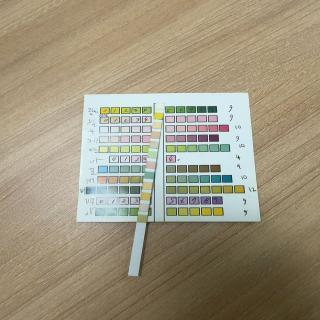mark: (144, 171, 154, 179), (146, 160, 156, 168), (141, 192, 150, 200), (140, 204, 148, 212), (149, 151, 157, 159), (150, 142, 158, 150), (152, 131, 160, 139), (152, 122, 160, 130), (154, 112, 162, 120), (138, 215, 147, 222), (144, 182, 152, 189), (156, 104, 163, 110)
